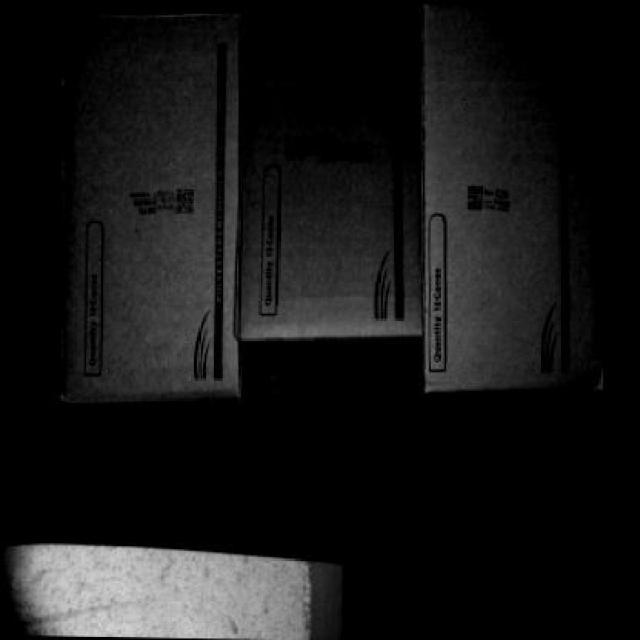box: (418, 6, 618, 397), (61, 8, 247, 400), (248, 3, 422, 339)
